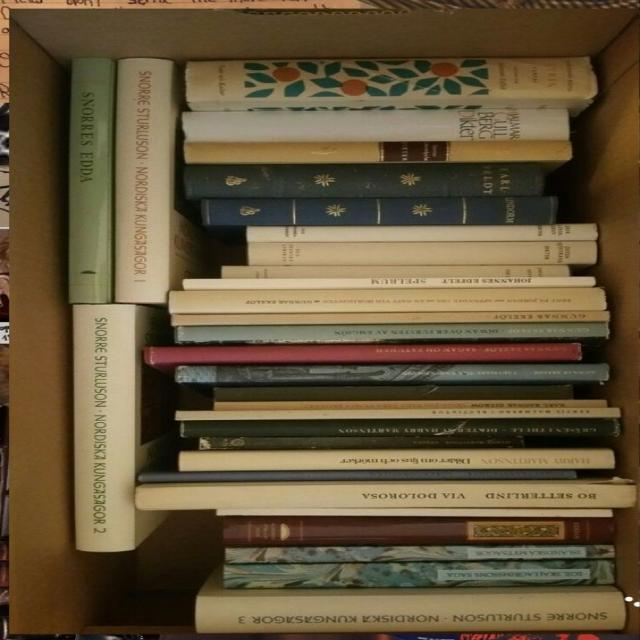book: (70, 304, 132, 551), (185, 61, 597, 97), (198, 597, 626, 627), (223, 515, 615, 544), (184, 111, 573, 140), (119, 61, 166, 300), (185, 164, 540, 194), (201, 194, 560, 222), (137, 485, 638, 505), (223, 561, 619, 586), (74, 58, 108, 302), (183, 420, 620, 436), (175, 292, 609, 308), (185, 143, 572, 160), (248, 242, 612, 260), (177, 324, 610, 339), (179, 451, 611, 466), (142, 347, 580, 361), (177, 365, 612, 379), (248, 226, 602, 240), (131, 468, 578, 479), (218, 386, 576, 399), (199, 436, 581, 448), (225, 547, 617, 558), (177, 410, 618, 419), (218, 264, 571, 275), (212, 399, 608, 408), (172, 311, 606, 319), (216, 508, 613, 516), (180, 279, 600, 286)
